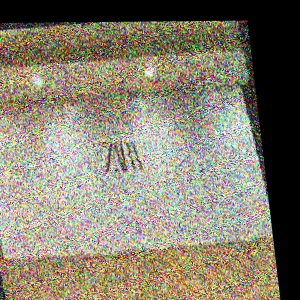zara: (80, 79, 212, 195)
